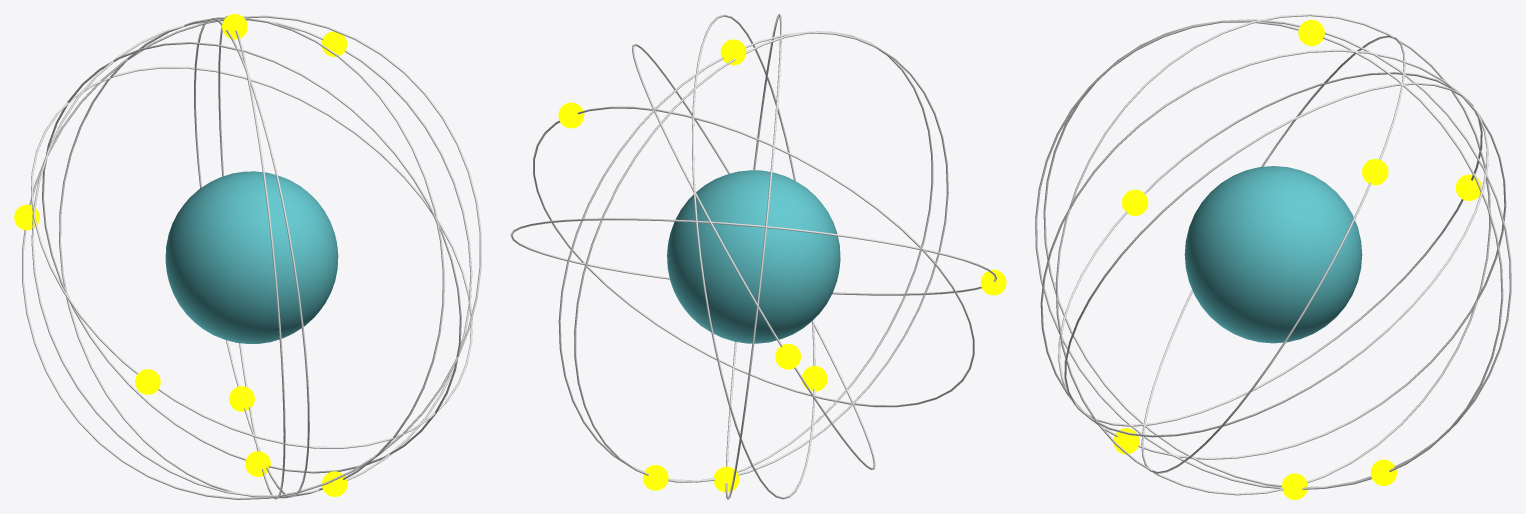
The model's file is expensum-atom-static.glb.
3 views of the same model, side by side, from view 1: azimuth 30°, elevation 25°; view 2: azimuth 150°, elevation 25°; view 3: azimuth 270°, elevation 25° (orthographic). The views are drawn at different scales.
Visible parts, largest first — view 1: Nucleus, Orbit_07, Orbit_05, Orbit_02, Orbit_04, Orbit_03, Orbit_06, Orbit_01, Electron_03, Electron_06, Electron_02, Electron_01; view 2: Nucleus, Orbit_01, Orbit_06, Orbit_05, Orbit_04, Orbit_03, Orbit_02, Orbit_07, Electron_07, Electron_05; view 3: Nucleus, Orbit_02, Orbit_06, Orbit_04, Orbit_01, Orbit_03, Orbit_07, Orbit_05, Electron_05, Electron_01, Electron_03, Electron_02 (+2 smaller).
Boxes of the visible parts, <box> form: Nucleus: <box>165,171,338,343</box>; Orbit_07: <box>22,15,481,499</box>; Orbit_05: <box>31,19,472,497</box>; Orbit_02: <box>42,42,461,473</box>; Orbit_04: <box>59,17,444,498</box>; Orbit_03: <box>31,66,472,448</box>; Orbit_06: <box>194,18,309,497</box>; Orbit_01: <box>218,16,285,499</box>; Electron_03: <box>135,369,160,394</box>; Electron_06: <box>229,386,254,411</box>; Electron_02: <box>245,451,270,476</box>; Electron_01: <box>222,14,247,39</box>; Nucleus: <box>667,170,840,343</box>; Orbit_01: <box>558,31,948,482</box>; Orbit_06: <box>574,31,933,482</box>; Orbit_05: <box>533,106,974,407</box>; Orbit_04: <box>692,14,815,499</box>; Orbit_03: <box>510,218,996,295</box>; Orbit_02: <box>725,14,781,499</box>; Orbit_07: <box>632,44,875,469</box>; Electron_07: <box>775,344,800,369</box>; Electron_05: <box>558,102,584,128</box>; Nucleus: <box>1184,166,1362,343</box>; Orbit_02: <box>1055,14,1491,495</box>; Orbit_06: <box>1035,19,1511,489</box>; Orbit_04: <box>1040,49,1506,459</box>; Orbit_01: <box>1043,20,1503,488</box>; Orbit_03: <box>1058,72,1488,437</box>; Orbit_07: <box>1064,82,1482,426</box>; Orbit_05: <box>1141,35,1405,473</box>; Electron_05: <box>1362,158,1388,185</box>; Electron_01: <box>1298,19,1324,46</box>; Electron_03: <box>1122,189,1148,215</box>; Electron_02: <box>1281,473,1308,499</box>.
Bounding box in the file's own units: 5.62 × 5.85 × 5.37.
